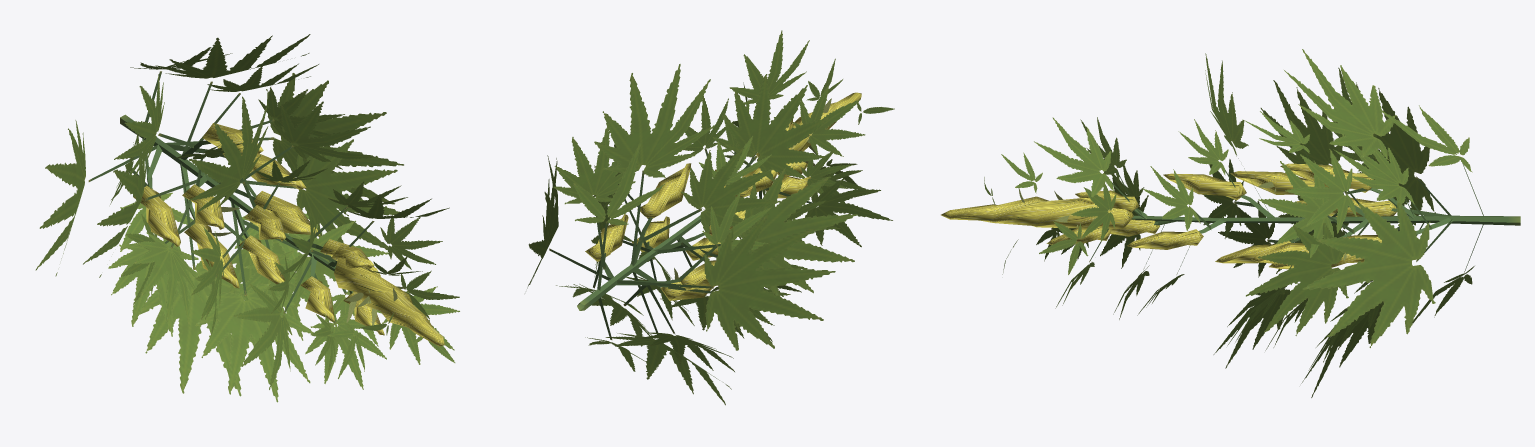
Rendered from p_gold_landrace_flowering_c0_cards.obj.
3 views of the same model, side by side, from view 1: azimuth 30°, elevation 25°; view 2: azimuth 150°, elevation 25°; view 3: azimuth 270°, elevation 25° (orthographic). The views are drawn at different scales.
Bounding box in the file's own units: 1.53 × 1.51 × 2.12.
Materials: 1 (1 with a texture image).
